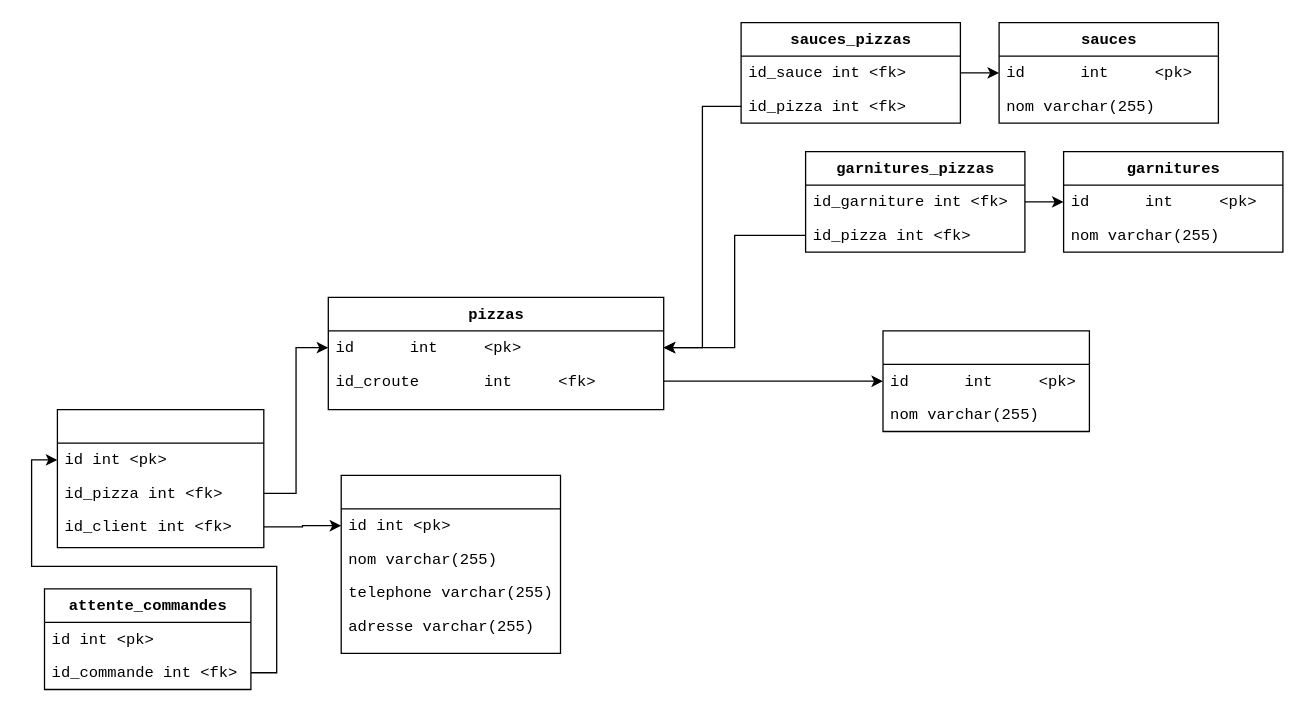
Some shapes in this 1305 by 716 pixel diagram are drawn without their labels. Each missing label, with the box of its shape:
clients: (340, 474, 561, 653)
commandes: (56, 408, 264, 548)
croutes: (882, 330, 1089, 432)
